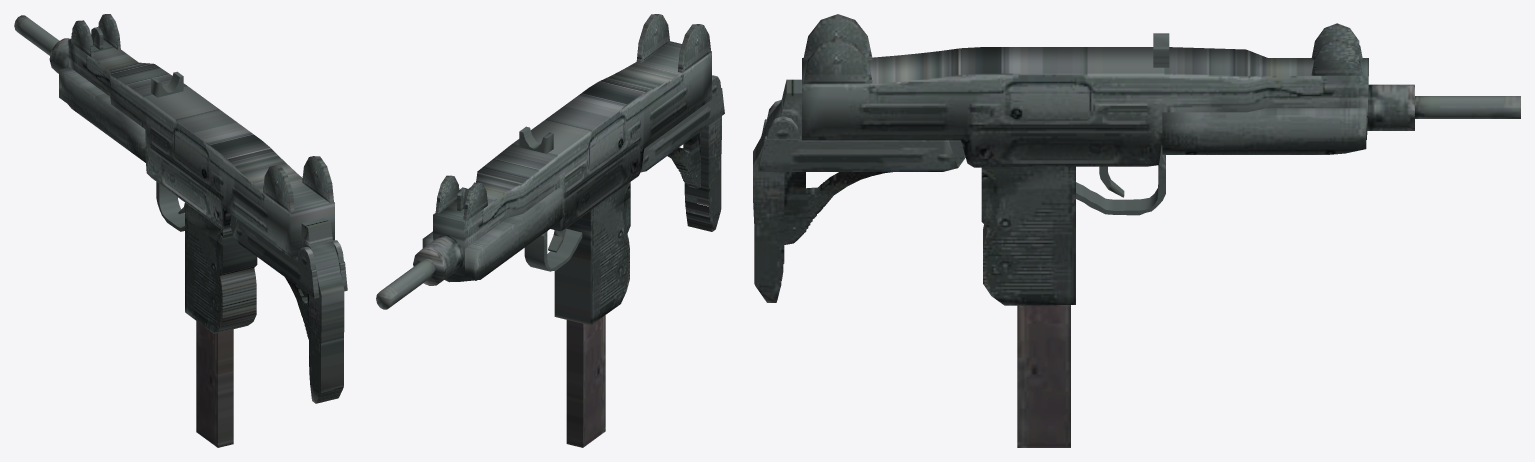
File: uzi.fbx
3 views of the same model, side by side, from view 1: azimuth 30°, elevation 25°; view 2: azimuth 150°, elevation 25°; view 3: azimuth 270°, elevation 25° (orthographic). The views are drawn at different scales.
Parts seen in each view (by area): view 1: uzi_body, uzi_grip, uzi_pad, uzi_clip, uzi_frontgrip, uzi_stocksupport, uzi_barrel, uzi_frontsight, uzi_trigger, uzi_bolt, uzi_stockframe; view 2: uzi_body, uzi_grip, uzi_clip, uzi_frontgrip, uzi_pad, uzi_barrel, uzi_stocksupport, uzi_trigger, uzi_frontsight, uzi_stockframe, uzi_bolt; view 3: uzi_body, uzi_grip, uzi_frontgrip, uzi_clip, uzi_stocksupport, uzi_pad, uzi_barrel, uzi_stockframe, uzi_frontsight, uzi_trigger.
Boxes of the visible parts, x1,y1,x2,y2 form: uzi_body: (68, 34, 334, 258); uzi_grip: (185, 203, 257, 333); uzi_pad: (301, 218, 344, 403); uzi_clip: (196, 321, 233, 447); uzi_frontgrip: (59, 67, 145, 162); uzi_stocksupport: (230, 215, 347, 298); uzi_barrel: (14, 15, 70, 73); uzi_frontsight: (71, 14, 120, 57); uzi_trigger: (156, 182, 184, 231); uzi_bolt: (151, 71, 183, 97); uzi_stockframe: (285, 277, 308, 339); uzi_body: (433, 14, 711, 276); uzi_grip: (554, 182, 630, 325); uzi_clip: (566, 315, 605, 447); uzi_frontgrip: (422, 187, 562, 282); uzi_pad: (684, 116, 721, 231); uzi_barrel: (376, 235, 464, 309); uzi_stocksupport: (641, 75, 724, 172); uzi_trigger: (524, 228, 582, 271); uzi_frontsight: (435, 175, 487, 220); uzi_stockframe: (667, 131, 700, 188); uzi_bolt: (519, 126, 553, 153); uzi_body: (802, 14, 1368, 167); uzi_grip: (981, 166, 1075, 305); uzi_frontgrip: (1162, 108, 1366, 154); uzi_clip: (1017, 305, 1070, 447); uzi_stocksupport: (758, 100, 965, 171); uzi_pad: (753, 79, 801, 302); uzi_barrel: (1367, 84, 1520, 130); uzi_stockframe: (784, 172, 892, 244); uzi_frontsight: (1311, 23, 1362, 75); uzi_trigger: (1076, 145, 1165, 215).
Bounding box in the file's own units: 1.57 × 9.97 × 16.68.
Materials: 1 (1 with a texture image).
